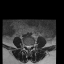CCS_normal: (27, 43, 29, 50)
LFS_normal: (31, 42, 33, 48)
LLS_normal: (29, 43, 31, 49)
RFS_normal: (24, 42, 26, 48)
RLS_normal: (26, 43, 27, 49)
